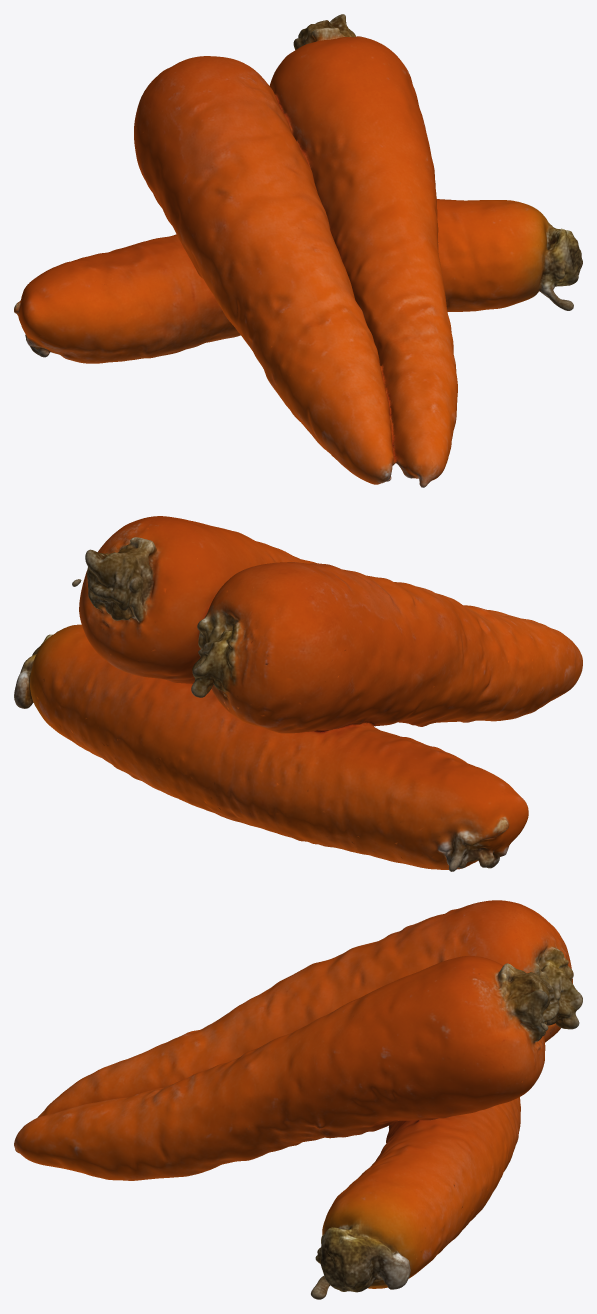
Rendered from zanahoria.glb.
3 renders of one model, top to bottom at view 1: azimuth 30°, elevation 25°; view 2: azimuth 150°, elevation 25°; view 3: azimuth 270°, elevation 25°, orthographic. The views are drawn at different scales.
Parts seen in each view (by area): view 1: world; view 2: world; view 3: world.
Boxes of the visible parts, x1=… form: world: x1=14, y1=14, x2=582, y2=487; world: x1=14, y1=516, x2=582, y2=871; world: x1=14, y1=900, x2=582, y2=1299.
Size of the model in its own units: 1 by 0.4878 by 0.9537.
1 material, 1 textured.
